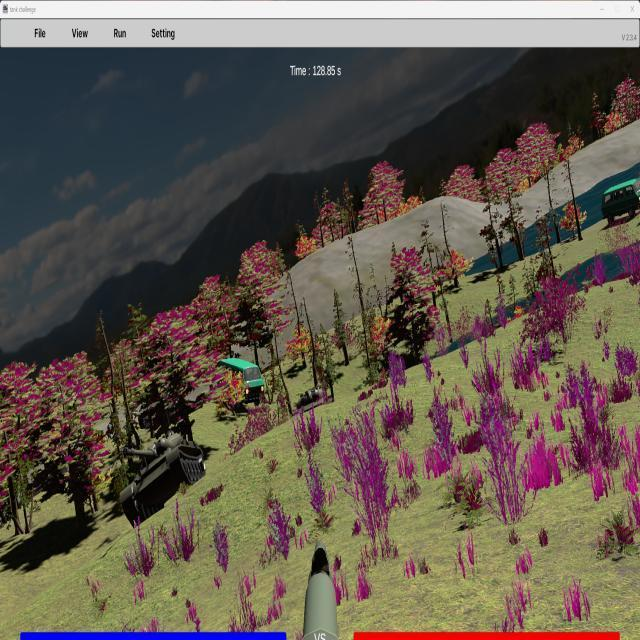Tank: (120, 432, 207, 524)
car: (210, 358, 265, 406), (600, 177, 640, 224)
